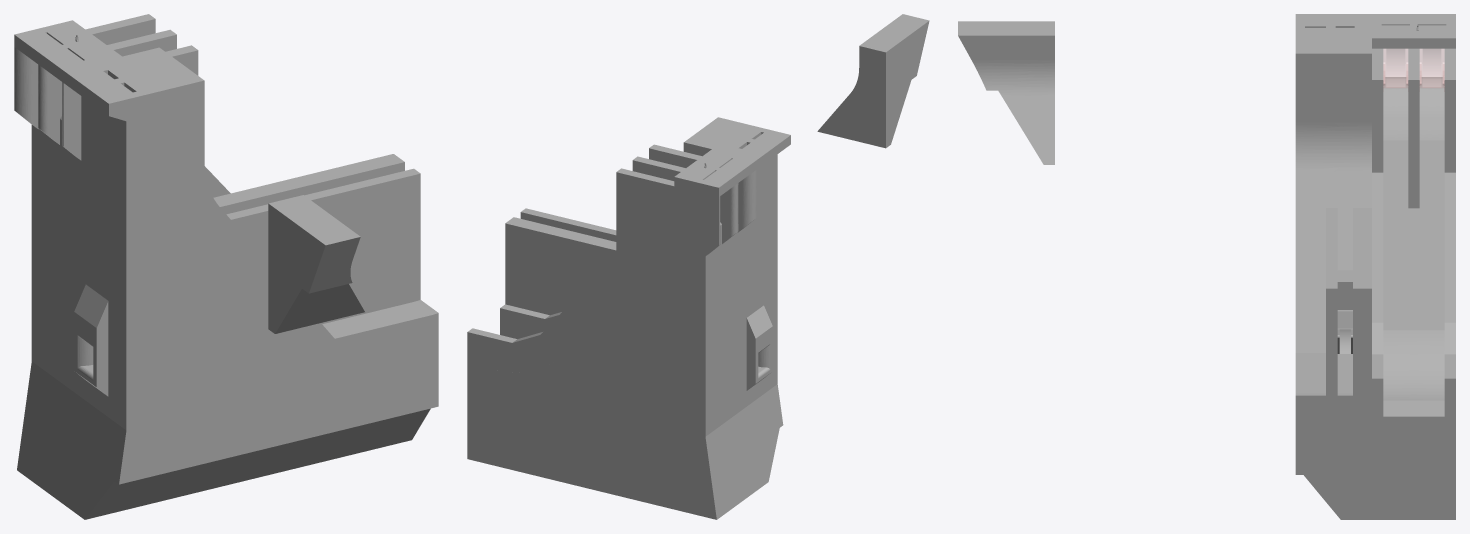
3 renders of one model, left to right at view 1: azimuth 30°, elevation 25°; view 2: azimuth 150°, elevation 25°; view 3: azimuth 270°, elevation 25°, orthographic. The views are drawn at different scales.
Size of the model in its own units: 84.5 by 108 by 130.
